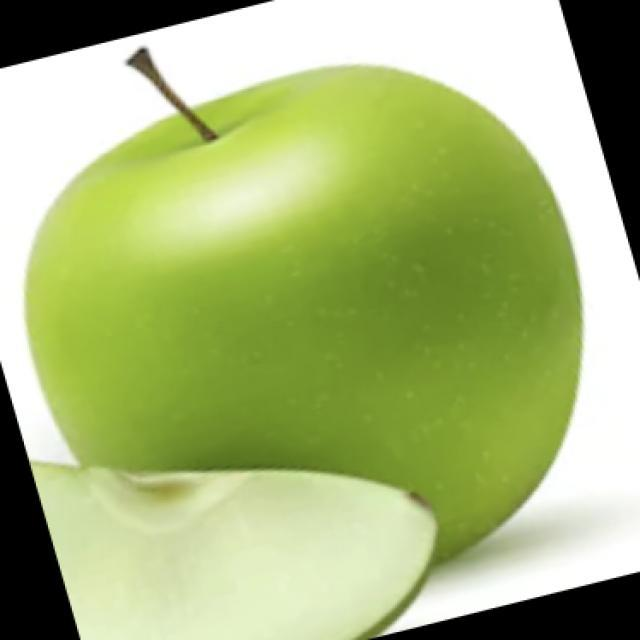Fresh Apple: (20, 62, 578, 568)
